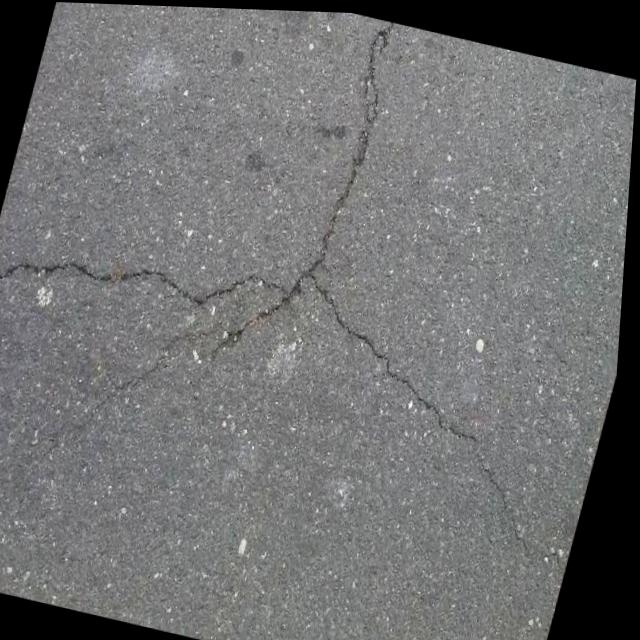Crack: (0, 191, 580, 525), (217, 7, 409, 378)
